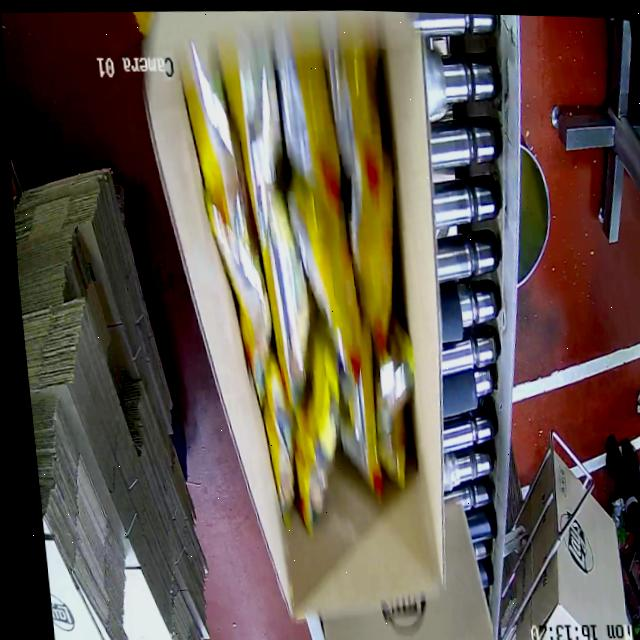SALTED: (187, 42, 423, 501)
